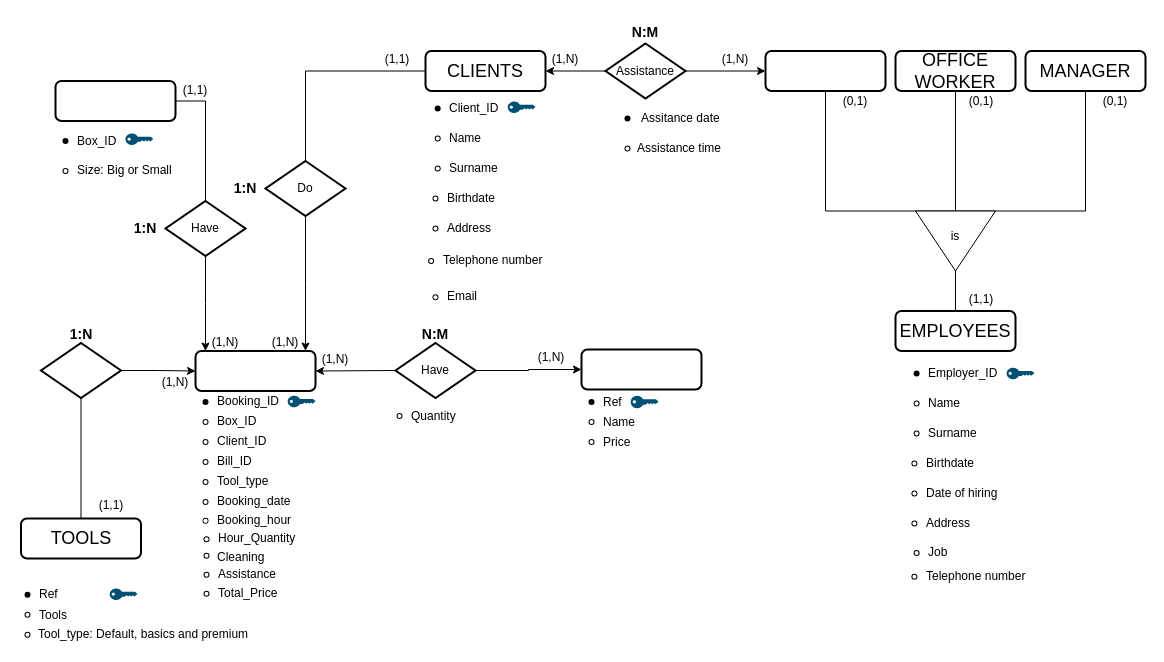
The diagram is 1164 pixels wide and 662 high, and some of its shapes have lost their labels. The shapes that lost their labels are listed below. From the top down, each one's centre as x and y in pixels, then its label:
the point at 825,71: MECHANIC
the point at 115,101: BOXES
the point at 81,370: Choose
the point at 255,371: BOOKINGS
the point at 641,369: PRODUCTS
